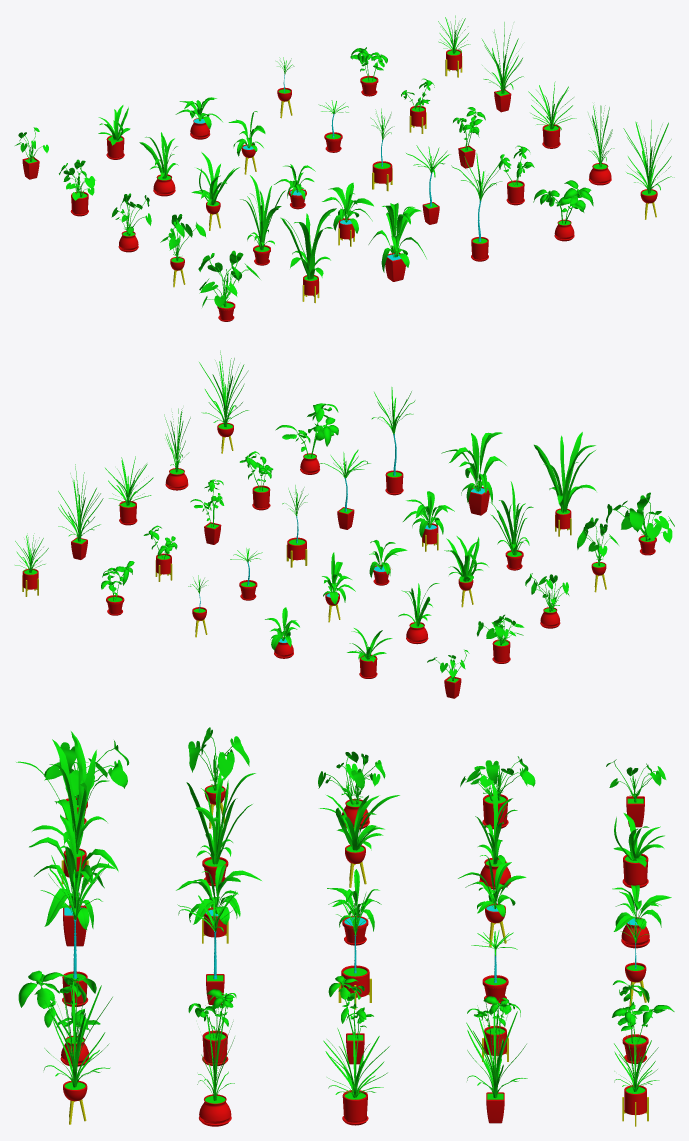
File: houseplants_grp.fbx
3 renders of one model, top to bottom at view 1: azimuth 30°, elevation 25°; view 2: azimuth 150°, elevation 25°; view 3: azimuth 270°, elevation 25°, orthographic. The views are drawn at different scales.
Parts seen in each view (by area): view 1: houseplant_11, houseplant_6, houseplant_1, houseplant_21, houseplant_7, houseplant_12, houseplant_26, houseplant_4, houseplant_9, houseplant_29, houseplant_27, houseplant_28 (+17 smaller); view 2: houseplant_6, houseplant_11, houseplant_1, houseplant_21, houseplant_26, houseplant_7, houseplant_29, houseplant_12, houseplant_4, houseplant_28, houseplant_8, houseplant_3 (+16 smaller); view 3: houseplant_11, houseplant_6, houseplant_21, houseplant_26, houseplant_7, houseplant_29, houseplant_12, houseplant_28, houseplant_8, houseplant_4, houseplant_25, houseplant_27 (+18 smaller).
Boxes of the visible parts, x1=… form: houseplant_11: x1=368, y1=203, x2=426, y2=281; houseplant_6: x1=280, y1=208, x2=336, y2=303; houseplant_1: x1=198, y1=250, x2=260, y2=321; houseplant_21: x1=533, y1=180, x2=593, y2=241; houseplant_7: x1=240, y1=175, x2=285, y2=265; houseplant_12: x1=322, y1=182, x2=373, y2=246; houseplant_26: x1=623, y1=120, x2=674, y2=219; houseplant_4: x1=59, y1=159, x2=95, y2=216; houseplant_9: x1=139, y1=132, x2=178, y2=196; houseplant_29: x1=481, y1=22, x2=523, y2=112; houseplant_27: x1=588, y1=105, x2=614, y2=185; houseplant_28: x1=528, y1=81, x2=576, y2=148; houseplant_6: x1=534, y1=432, x2=596, y2=536; houseplant_11: x1=441, y1=432, x2=506, y2=515; houseplant_1: x1=606, y1=492, x2=674, y2=555; houseplant_21: x1=275, y1=403, x2=338, y2=474; houseplant_26: x1=199, y1=350, x2=248, y2=453; houseplant_7: x1=490, y1=481, x2=533, y2=570; houseplant_29: x1=58, y1=464, x2=103, y2=559; houseplant_12: x1=403, y1=491, x2=454, y2=551; houseplant_4: x1=476, y1=614, x2=524, y2=663; houseplant_28: x1=105, y1=456, x2=153, y2=525; houseplant_8: x1=444, y1=536, x2=488, y2=607; houseplant_3: x1=525, y1=573, x2=569, y2=628; houseplant_11: x1=29, y1=814, x2=118, y2=946; houseplant_6: x1=16, y1=731, x2=109, y2=884; houseplant_21: x1=18, y1=970, x2=100, y2=1066; houseplant_26: x1=43, y1=973, x2=112, y2=1124; houseplant_7: x1=186, y1=771, x2=255, y2=886; houseplant_29: x1=466, y1=997, x2=527, y2=1123; houseplant_12: x1=176, y1=865, x2=261, y2=943; houseplant_28: x1=323, y1=1028, x2=389, y2=1125; houseplant_8: x1=319, y1=795, x2=399, y2=887; houseplant_4: x1=460, y1=756, x2=535, y2=829; houseplant_25: x1=612, y1=980, x2=674, y2=1063; houseplant_27: x1=197, y1=1003, x2=234, y2=1126.
Bounding box in the file's own units: 557 × 112 × 472.
